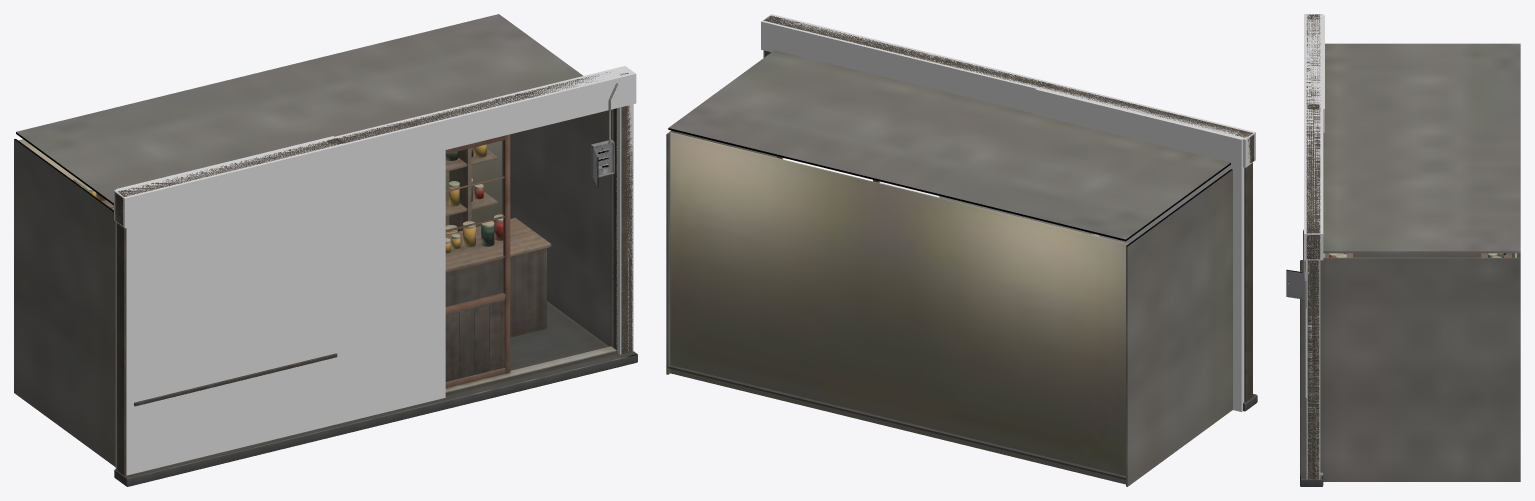
File: sf02_front.gltf
3 views of the same model, side by side, from view 1: azimuth 30°, elevation 25°; view 2: azimuth 150°, elevation 25°; view 3: azimuth 270°, elevation 25° (orthographic). The views are drawn at different scales.
Visible parts, largest first — view 1: sf02_front_LOD0, sf02_front_COL; view 2: sf02_front_LOD0, sf02_front_COL; view 3: sf02_front_LOD0, sf02_front_COL.
Part boxes in pixels (x1,y1,x2,y2): sf02_front_LOD0: [14, 14, 637, 486]; sf02_front_COL: [114, 66, 636, 475]; sf02_front_LOD0: [666, 15, 1257, 486]; sf02_front_COL: [761, 14, 1255, 411]; sf02_front_LOD0: [1286, 14, 1520, 486]; sf02_front_COL: [1304, 14, 1324, 479].
Size of what is drawn, in the model's own units: 5.4 by 2.9 by 2.43.
2 materials, 1 textured.
